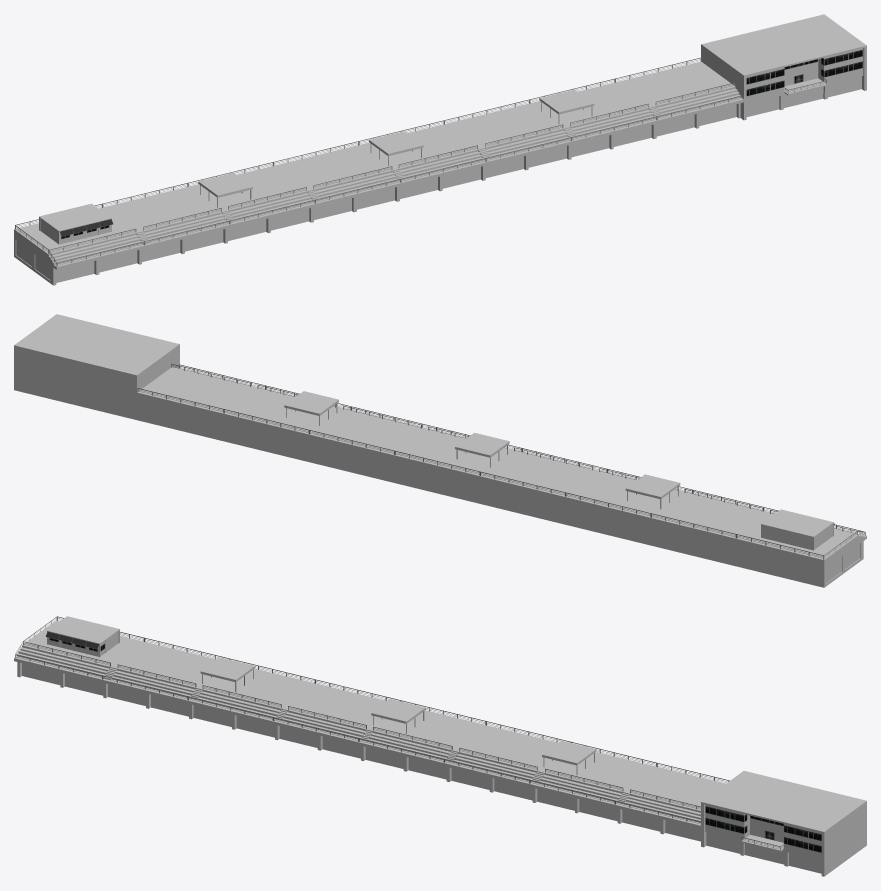
Rendered from Building-Grid-05.fbx.
The picture shows the model from 3 angles, top to bottom: view 1: azimuth 30°, elevation 25°; view 2: azimuth 150°, elevation 25°; view 3: azimuth 330°, elevation 25°; orthographic projection.
Visible parts, largest first — view 1: Building-Grid-05; view 2: Building-Grid-05; view 3: Building-Grid-05.
Part boxes in pixels (box(x1,y1,x2,y2)): Building-Grid-05: box(14, 14, 866, 285); Building-Grid-05: box(14, 314, 866, 587); Building-Grid-05: box(14, 616, 866, 876).
Size of the model in its own units: 23583 by 1247 by 2253.
